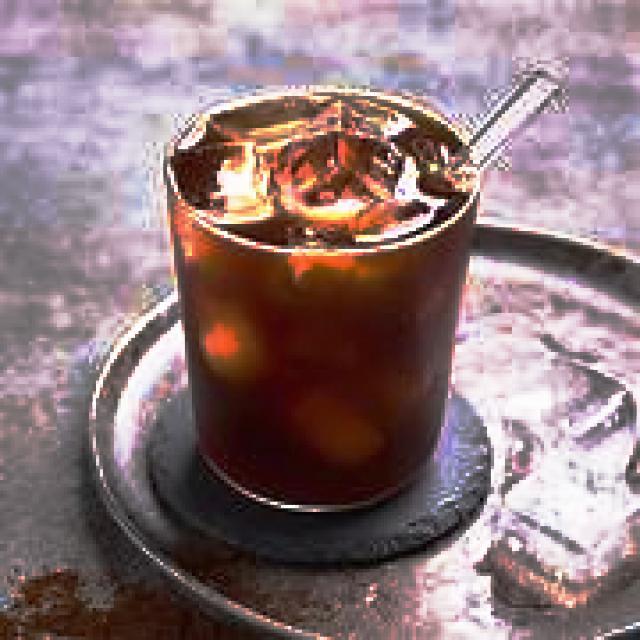drink: (165, 82, 481, 503)
